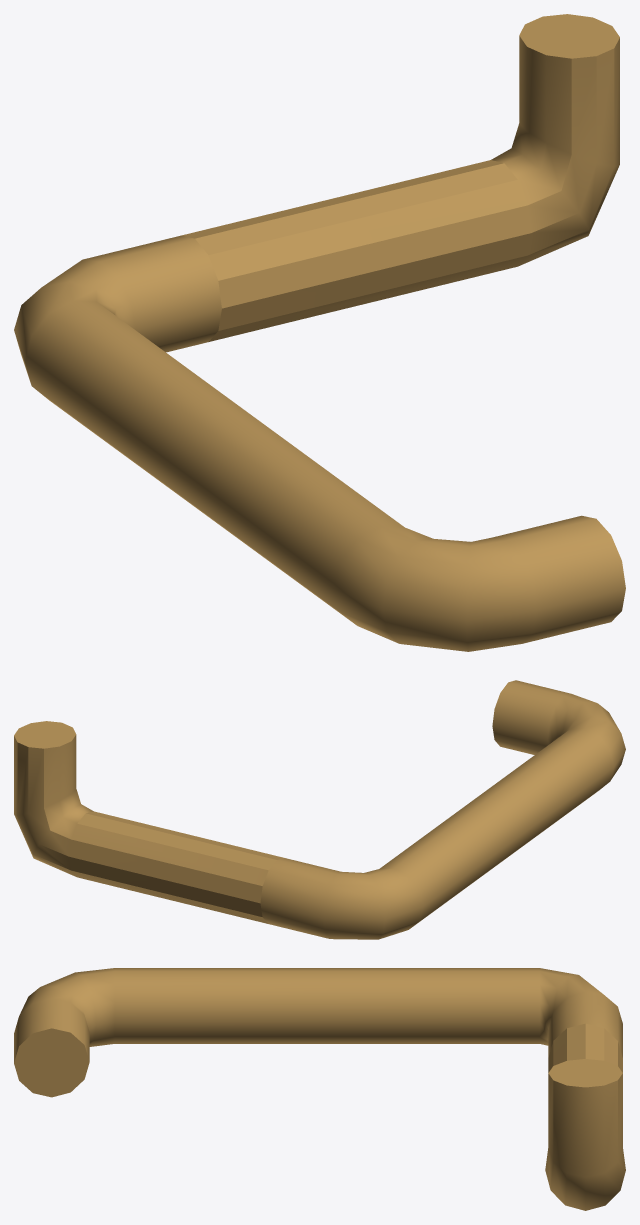
Rendered from pipes_big.fbx.
3 views of the same model, one above another, from view 1: azimuth 30°, elevation 25°; view 2: azimuth 150°, elevation 25°; view 3: azimuth 270°, elevation 25° (orthographic). The views are drawn at different scales.
Visible parts, largest first — view 1: pCylinder2; view 2: pCylinder2; view 3: pCylinder2.
Boxes of the visible parts, x1,y1,x2,y2 form: pCylinder2: (14,14,625,651); pCylinder2: (14,680,625,939); pCylinder2: (14,968,625,1210).
Bounding box in the file's own units: 217 × 70.77 × 270.
